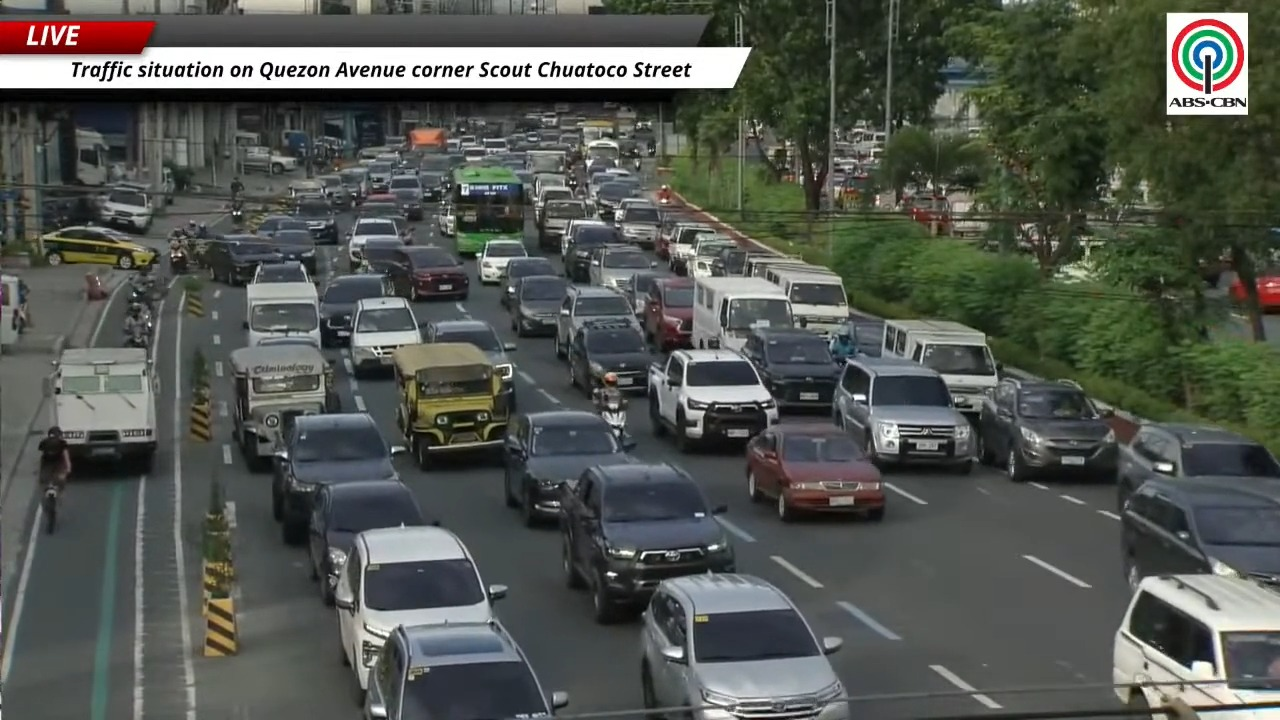bus: (451, 166, 523, 256)
car: (640, 574, 850, 719), (560, 463, 735, 623), (335, 526, 506, 689), (1112, 574, 1279, 716), (362, 622, 569, 719), (271, 413, 405, 544), (1121, 478, 1279, 587), (833, 355, 975, 473), (504, 409, 635, 526), (309, 479, 428, 604), (977, 377, 1119, 481), (746, 423, 885, 521), (1117, 423, 1279, 506), (424, 319, 516, 409), (742, 328, 838, 412), (567, 319, 650, 397), (555, 285, 638, 358), (347, 295, 421, 376), (319, 274, 392, 346), (41, 226, 156, 269), (386, 245, 469, 301), (203, 235, 282, 284), (643, 277, 693, 351), (509, 276, 569, 336), (564, 222, 622, 282), (537, 191, 591, 251), (559, 213, 610, 276), (588, 246, 655, 293), (348, 217, 402, 271), (500, 257, 556, 307), (98, 183, 154, 233), (356, 196, 412, 243), (623, 270, 666, 327), (269, 230, 318, 279), (615, 200, 660, 249), (477, 240, 527, 284), (293, 199, 338, 243), (594, 177, 638, 220), (360, 237, 408, 274), (390, 175, 423, 220), (251, 261, 311, 283), (254, 215, 309, 238), (316, 174, 352, 207), (338, 167, 369, 204), (358, 193, 402, 218), (712, 246, 747, 276), (1255, 268, 1279, 311), (418, 170, 447, 202), (366, 161, 394, 193), (288, 179, 327, 199), (289, 187, 330, 206), (436, 199, 455, 236)
motorcycle: (598, 398, 626, 442), (124, 323, 148, 348), (169, 250, 188, 275), (230, 206, 245, 225), (633, 157, 641, 172)
truck: (47, 348, 158, 470), (648, 349, 778, 451), (882, 320, 999, 416), (691, 277, 793, 349), (766, 267, 849, 337), (244, 282, 319, 346), (74, 128, 109, 186), (239, 146, 298, 174), (407, 127, 446, 152)
